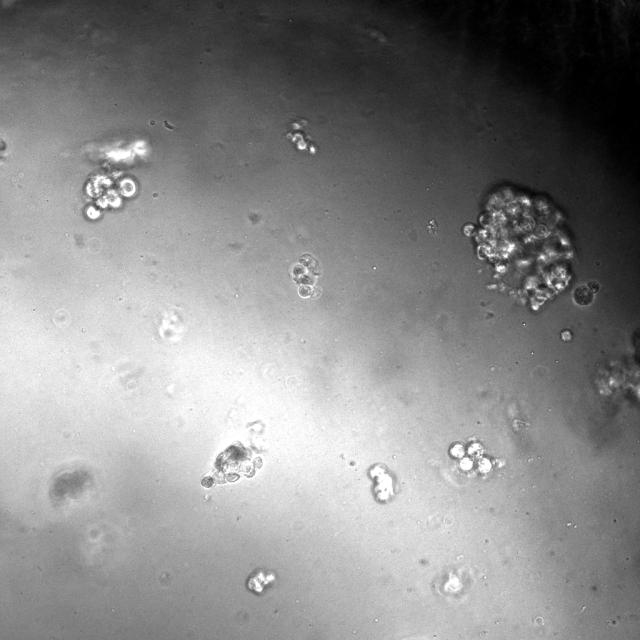organoid: (463, 183, 574, 311), (82, 161, 139, 221), (201, 441, 262, 487), (449, 436, 504, 476), (289, 253, 321, 298), (368, 463, 398, 503), (286, 119, 317, 154), (247, 567, 277, 595), (573, 281, 599, 306), (560, 328, 573, 341)
